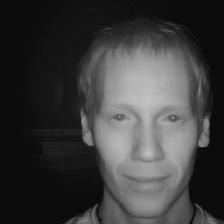happy: (71, 23, 221, 215)
